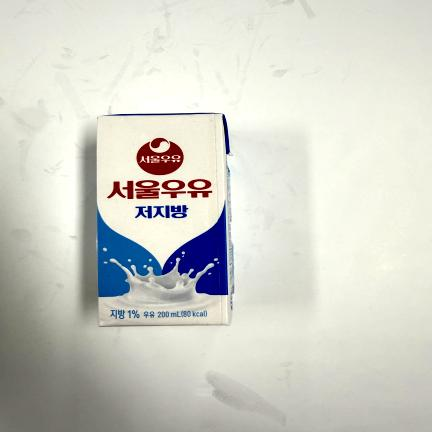milk_blue: (97, 113, 234, 326)
